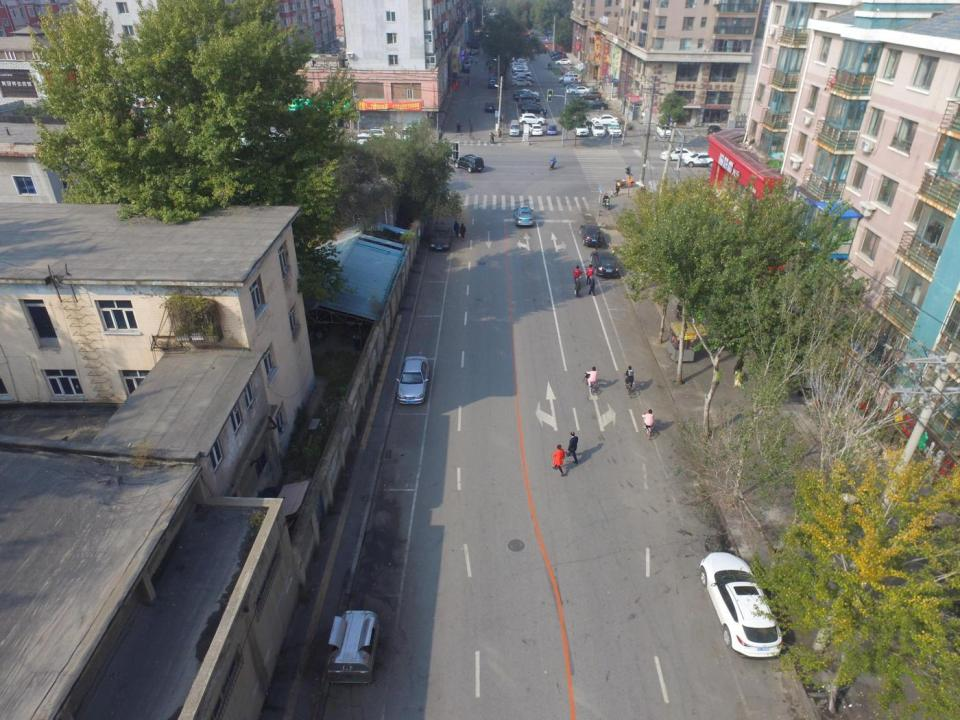car: (699, 550, 783, 660), (396, 354, 429, 404), (590, 250, 619, 278), (580, 222, 604, 248), (429, 226, 451, 252), (683, 151, 716, 168), (454, 154, 484, 172), (660, 147, 696, 160), (514, 205, 534, 228), (519, 112, 547, 126), (591, 113, 618, 126), (582, 100, 609, 111), (521, 103, 547, 114), (514, 92, 540, 103), (577, 90, 601, 101), (566, 85, 590, 95), (518, 99, 542, 109), (607, 122, 622, 137), (656, 124, 673, 137), (591, 123, 606, 137), (574, 121, 588, 136), (512, 90, 535, 98), (545, 122, 558, 136), (529, 123, 543, 136), (511, 78, 533, 86), (554, 58, 572, 66), (483, 102, 496, 112), (488, 79, 498, 89), (488, 72, 497, 82), (462, 64, 470, 74)
van: (508, 118, 521, 137), (558, 73, 579, 83), (563, 76, 583, 85)
